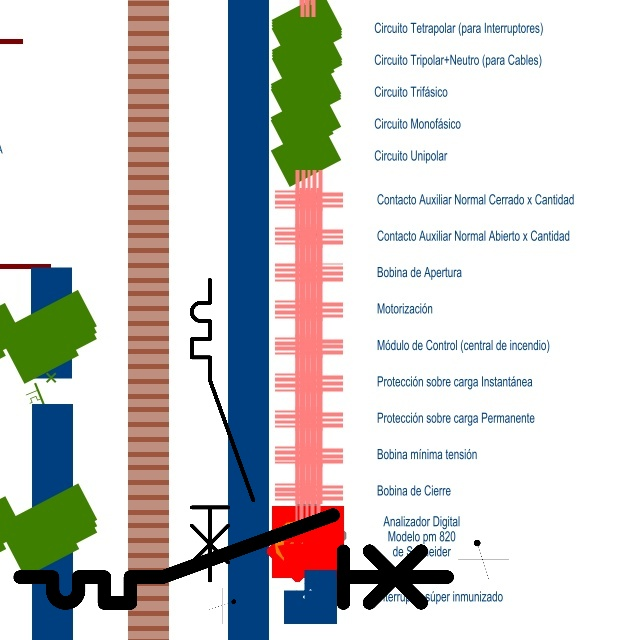interruptor_termomagnetico: (9, 504, 458, 614), (184, 272, 261, 588)
